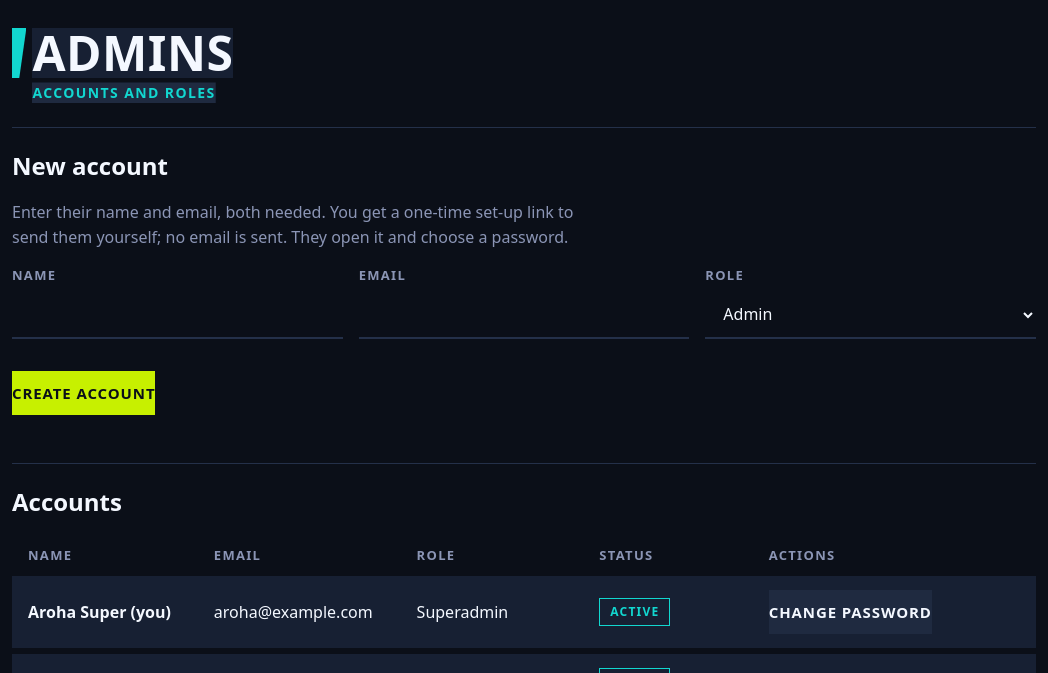
Test: Admins screen (A-09) › shows why an account was not created, and a lost connection
Click the button "Create account" at point(84, 394), box [12, 372, 156, 416]
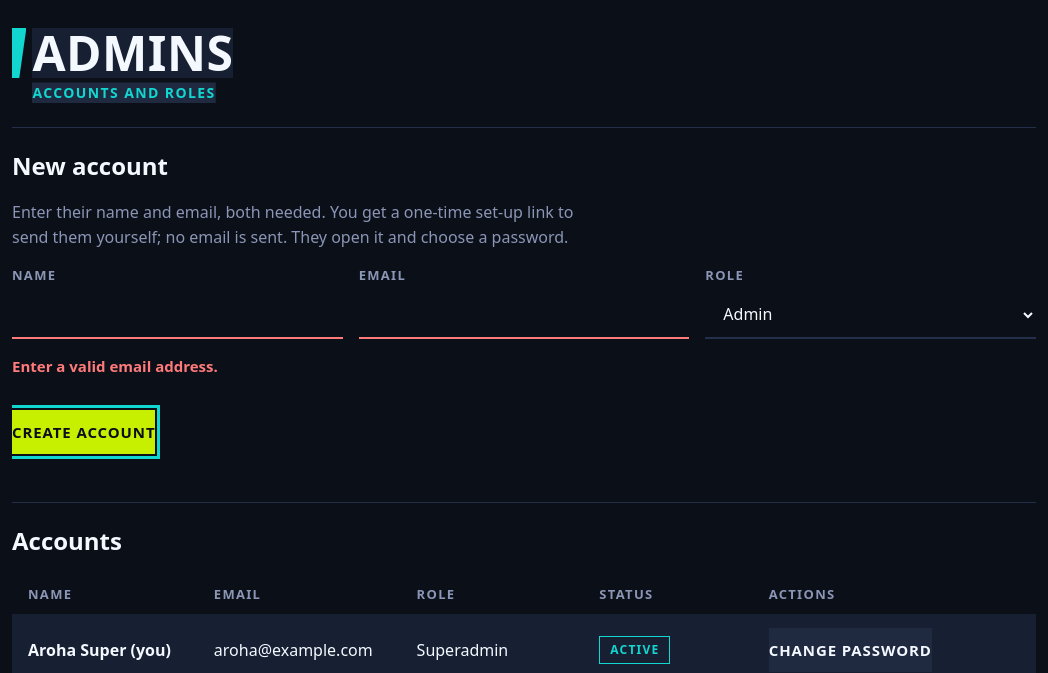
Click the button "Create account" at point(84, 432), box [12, 410, 156, 454]
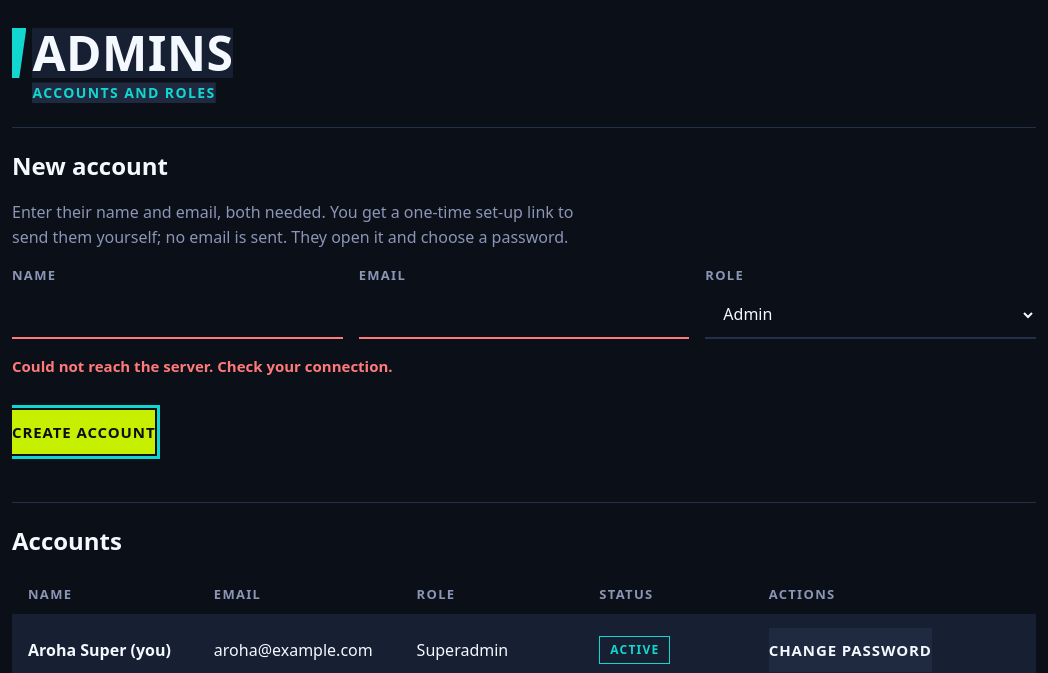
Now the text "Could not reach the server. Check your connection." is shown, box [12, 356, 393, 376]
